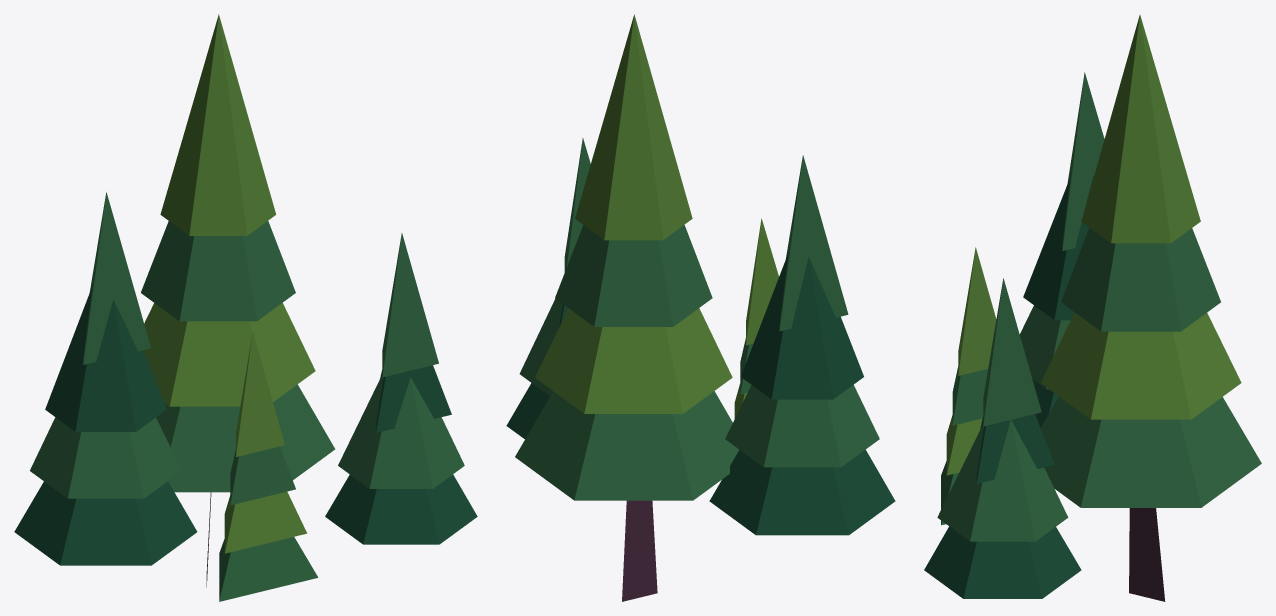
Rendered from grove_pines-lod1.glb.
The picture shows the model from 3 angles, left to right: view 1: azimuth 30°, elevation 25°; view 2: azimuth 150°, elevation 25°; view 3: azimuth 270°, elevation 25°; orthographic projection. The views are drawn at different scales.
Visible parts, largest first — view 1: grove_pines; view 2: grove_pines; view 3: grove_pines.
Boxes of the visible parts, bbox=[...] form: grove_pines: bbox=[14, 14, 477, 601]; grove_pines: bbox=[506, 14, 895, 601]; grove_pines: bbox=[924, 15, 1261, 601].
Bounding box in the file's own units: 16.43 × 23.46 × 12.22.
